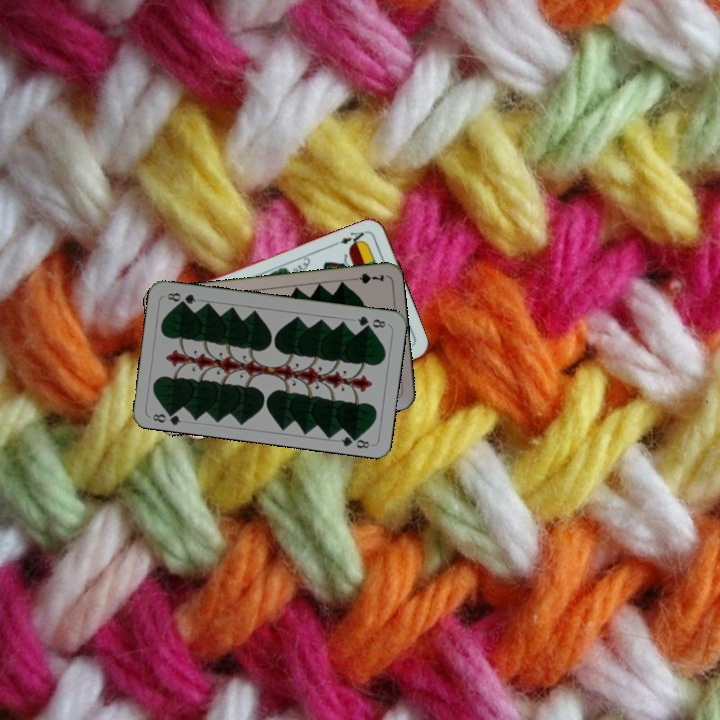EA: (336, 227, 370, 249)
G7: (346, 269, 387, 286)
G8: (149, 406, 184, 427), (353, 312, 388, 331)
